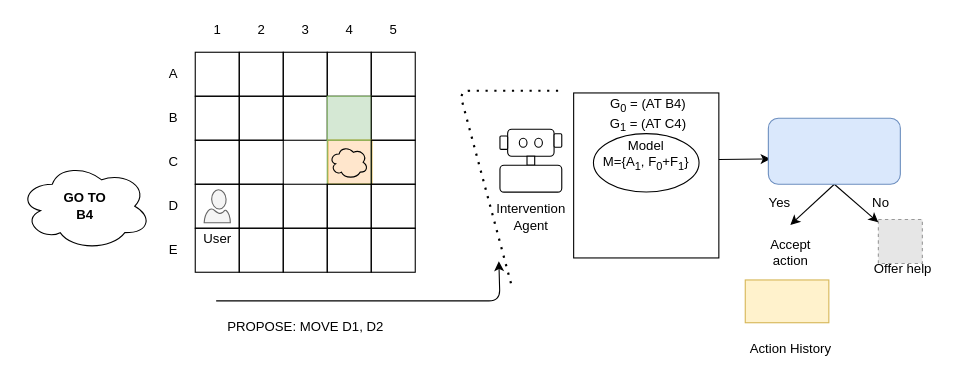
Some shapes in this 960 by 378 pixel diagram are drawn without their labels. Grey dashed boxes stand in for pictures. The shapes that lost their labels are listed below. From the top down, each one's box as (x1, y1, x2, y2) in pixels, then its label:
(767, 117, 900, 184): Is the proposed action helpful for the user?
(744, 279, 829, 323): MOVE E1 D1
